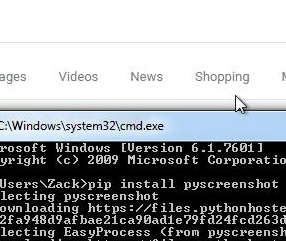cursor: (233, 93, 248, 116)
